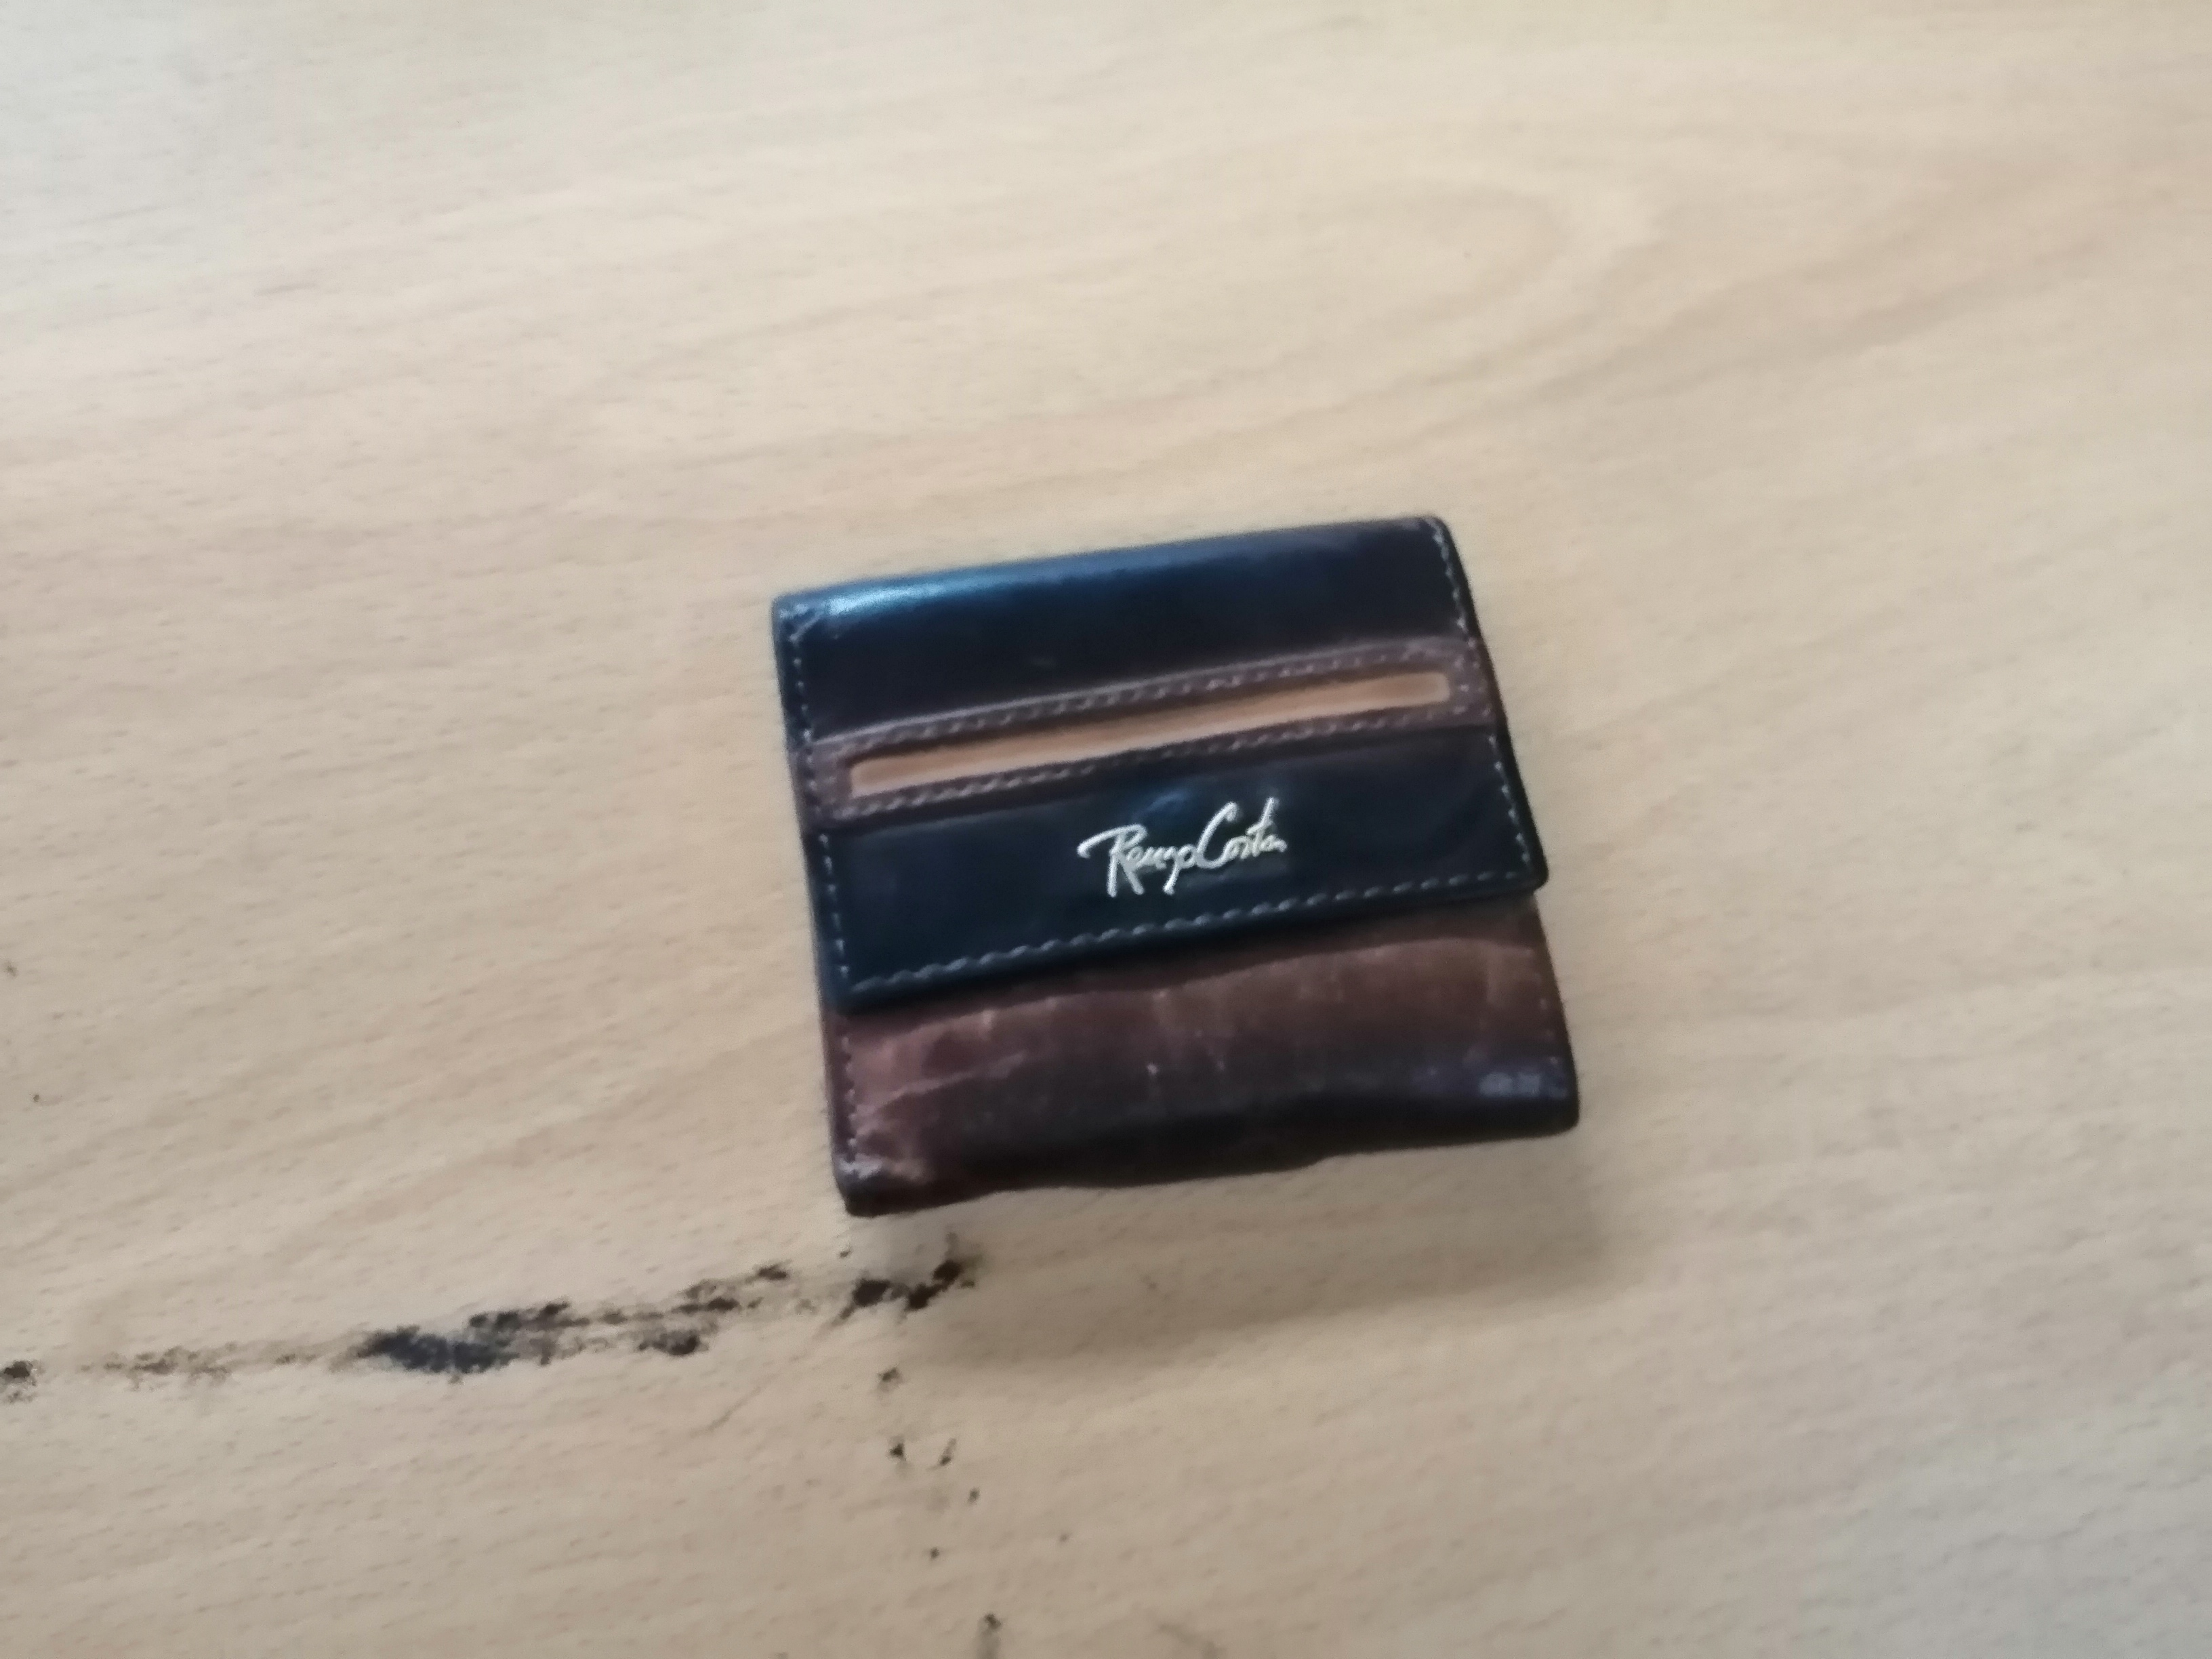monedero: (763, 497, 1629, 1227)
